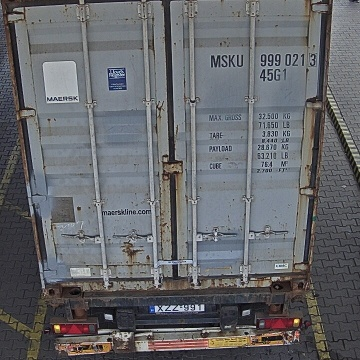serial_id: (211, 52, 317, 67)
